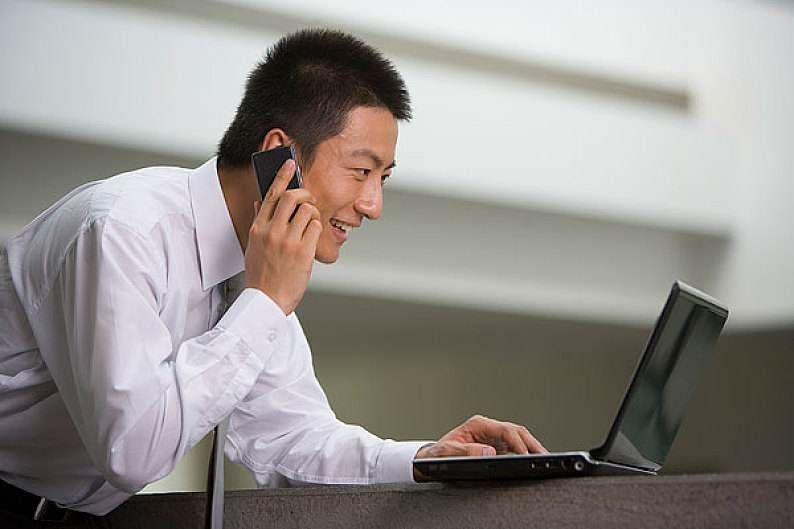calling: (240, 139, 324, 310)
